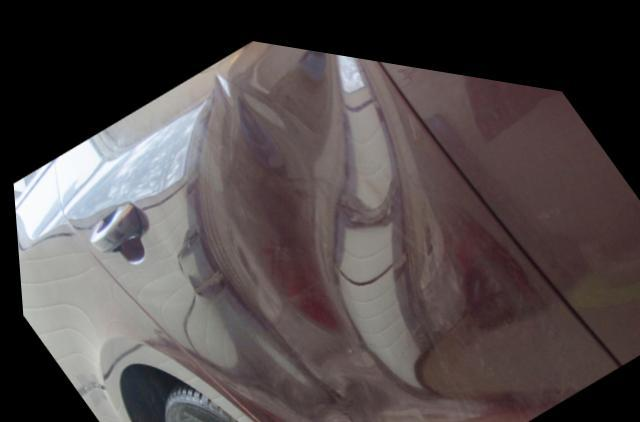dent: (184, 36, 479, 422)
